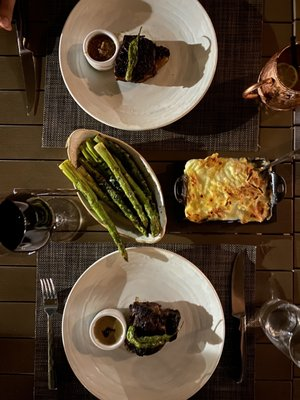burger: (40, 277, 61, 391)
sandwich: (231, 252, 248, 385)
